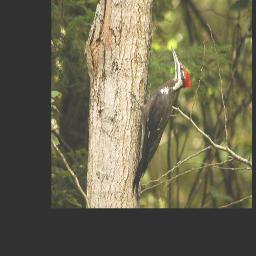Woodpecker: (126, 45, 192, 199)
